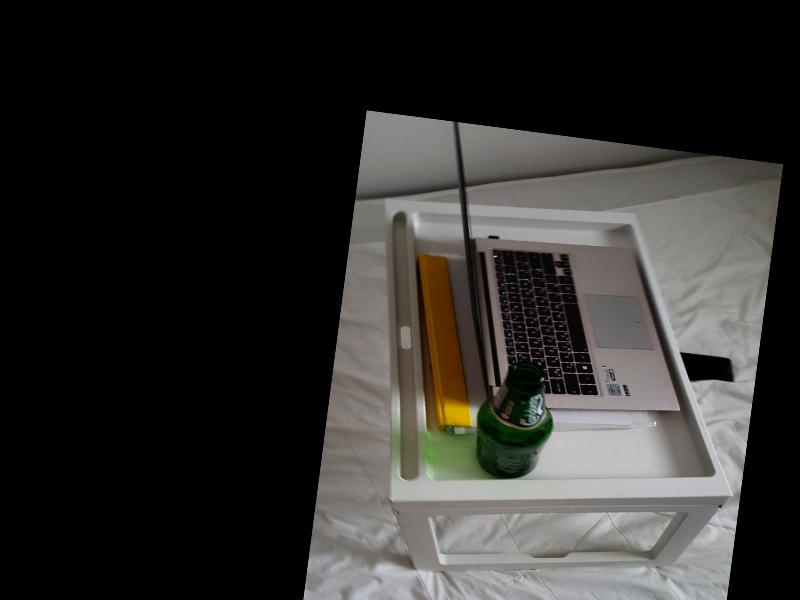Beer: (470, 357, 558, 483)
